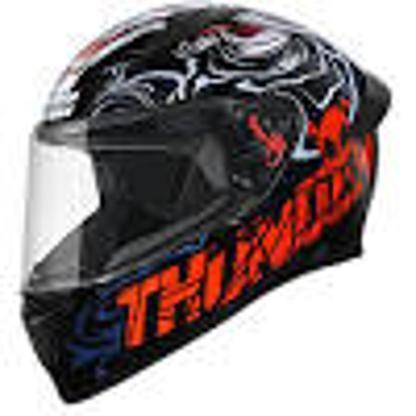not trash: (18, 0, 394, 398)
